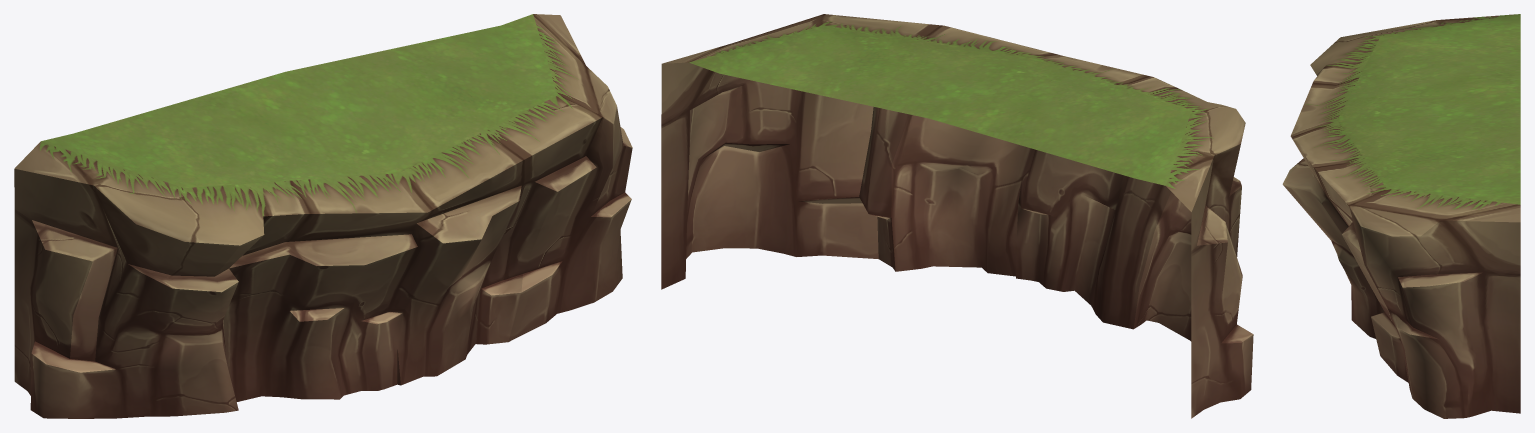
Rendered from Cliff #4.FBX.
The picture shows the model from 3 angles, left to right: view 1: azimuth 30°, elevation 25°; view 2: azimuth 150°, elevation 25°; view 3: azimuth 270°, elevation 25°; orthographic projection. The views are drawn at different scales.
Visible parts, largest first — view 1: Cliff #4; view 2: Cliff #4; view 3: Cliff #4.
Part boxes in pixels (left/top/right/bottom): Cliff #4: left=14, top=14, right=632, bottom=418; Cliff #4: left=661, top=14, right=1253, bottom=418; Cliff #4: left=1282, top=14, right=1520, bottom=418.
Size of the model in its own units: 831 by 335 by 362.
Materials: 1 (1 with a texture image).
